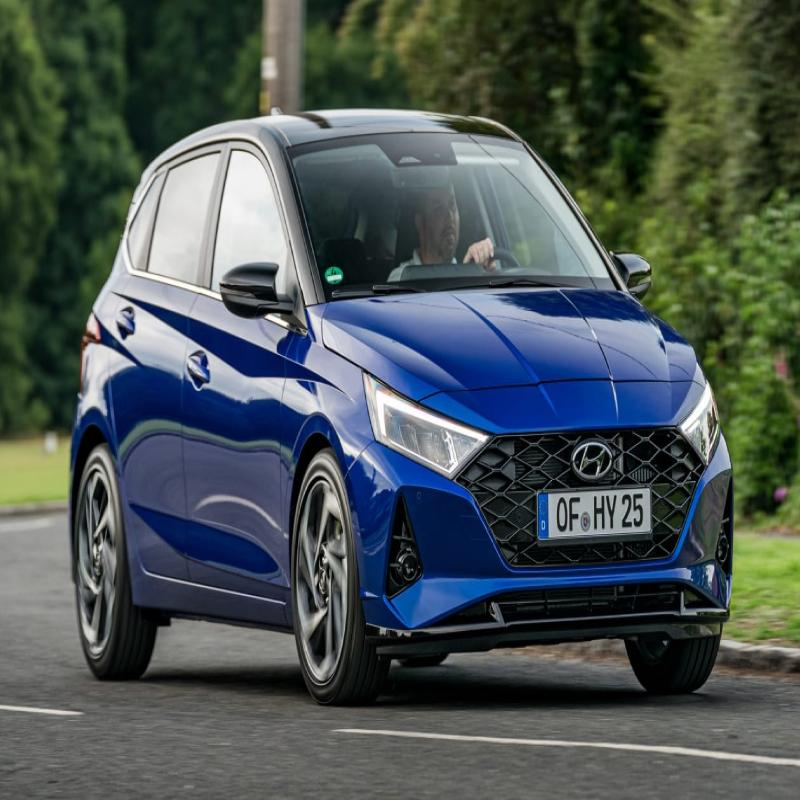car: (54, 89, 742, 701)
